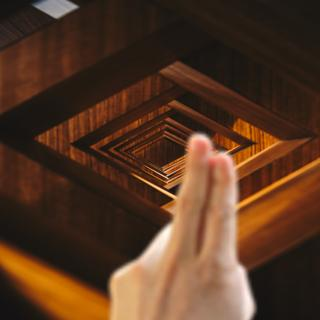DHAVE: (98, 123, 262, 320)
